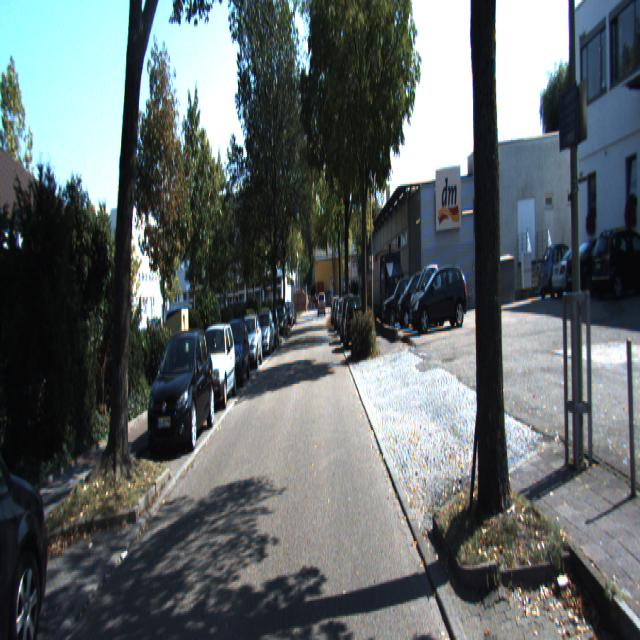Car: (0, 360, 56, 638), (145, 324, 215, 461), (565, 229, 638, 302), (409, 262, 469, 337), (548, 238, 618, 300), (193, 320, 238, 412), (533, 240, 598, 298), (589, 223, 639, 296), (394, 266, 438, 331), (218, 317, 250, 391), (235, 315, 262, 373), (343, 293, 365, 350), (254, 310, 275, 356)
